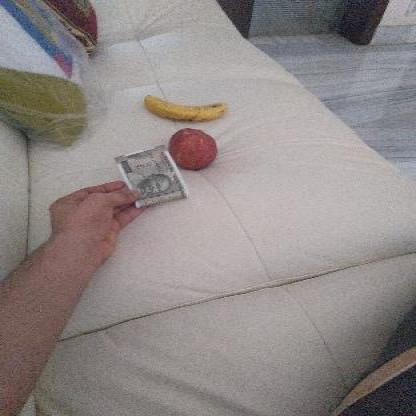New500Front: (116, 146, 184, 204)
